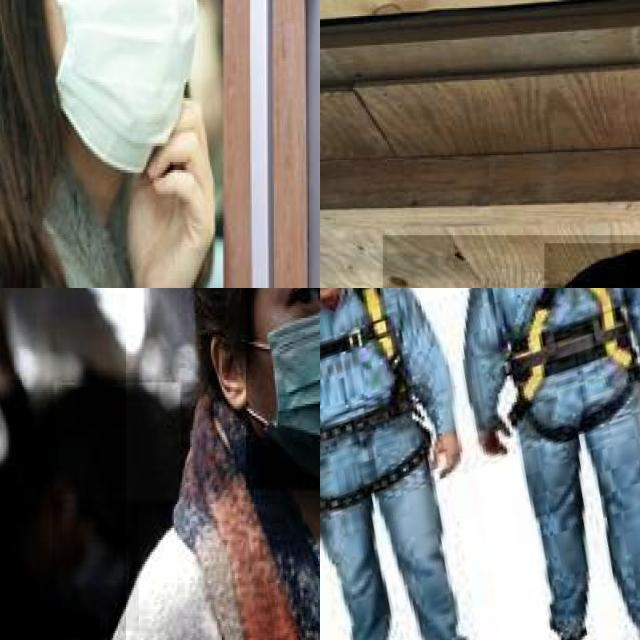Harness: (320, 288, 430, 492), (510, 288, 635, 422)
No_Ear-Protection: (208, 329, 250, 414)
face_mask: (43, 0, 198, 175), (246, 288, 320, 489), (52, 507, 140, 633)
head_nohelmet: (54, 382, 182, 502)
person: (125, 288, 320, 640), (0, 0, 226, 288)
